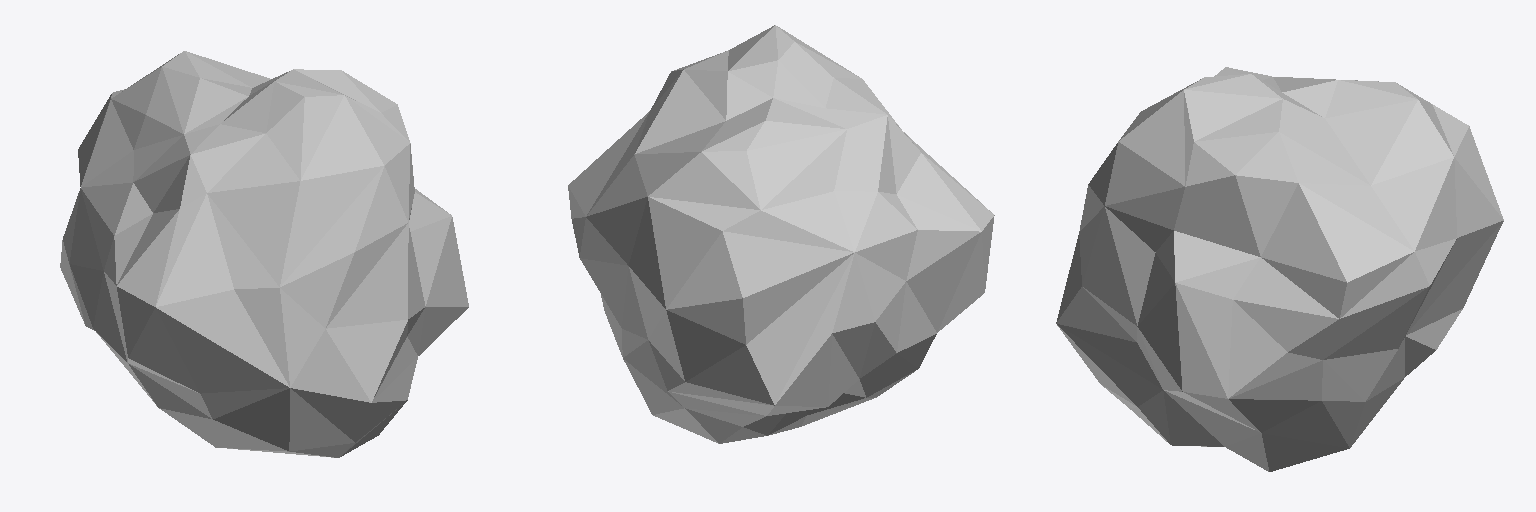
The model's file is asteroid_low.obj.
3 views of the same model, side by side, from view 1: azimuth 30°, elevation 25°; view 2: azimuth 150°, elevation 25°; view 3: azimuth 270°, elevation 25° (orthographic).
Parts seen in each view (by area): view 1: Sphere; view 2: Sphere; view 3: Sphere.
Boxes of the visible parts, <box> form: Sphere: <box>60,51,468,457</box>; Sphere: <box>568,25,994,443</box>; Sphere: <box>1056,67,1503,471</box>.
Bounding box in the file's own units: 2.01 × 2.03 × 2.21.